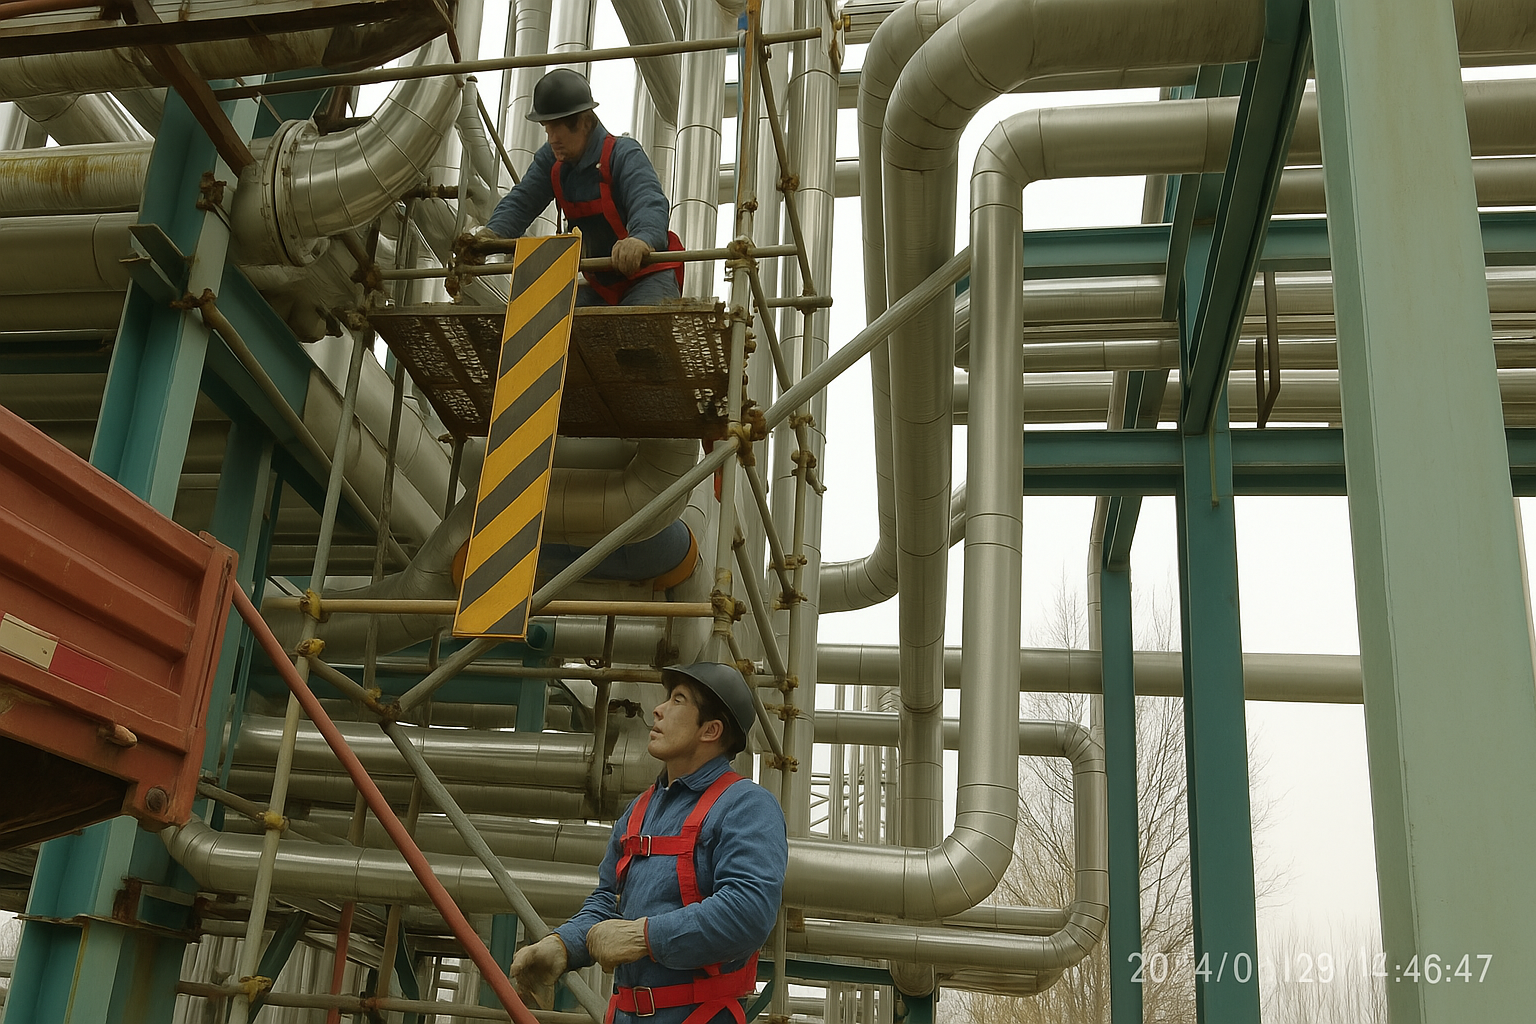safety_belt: (594, 755, 777, 1024), (540, 133, 694, 291)
